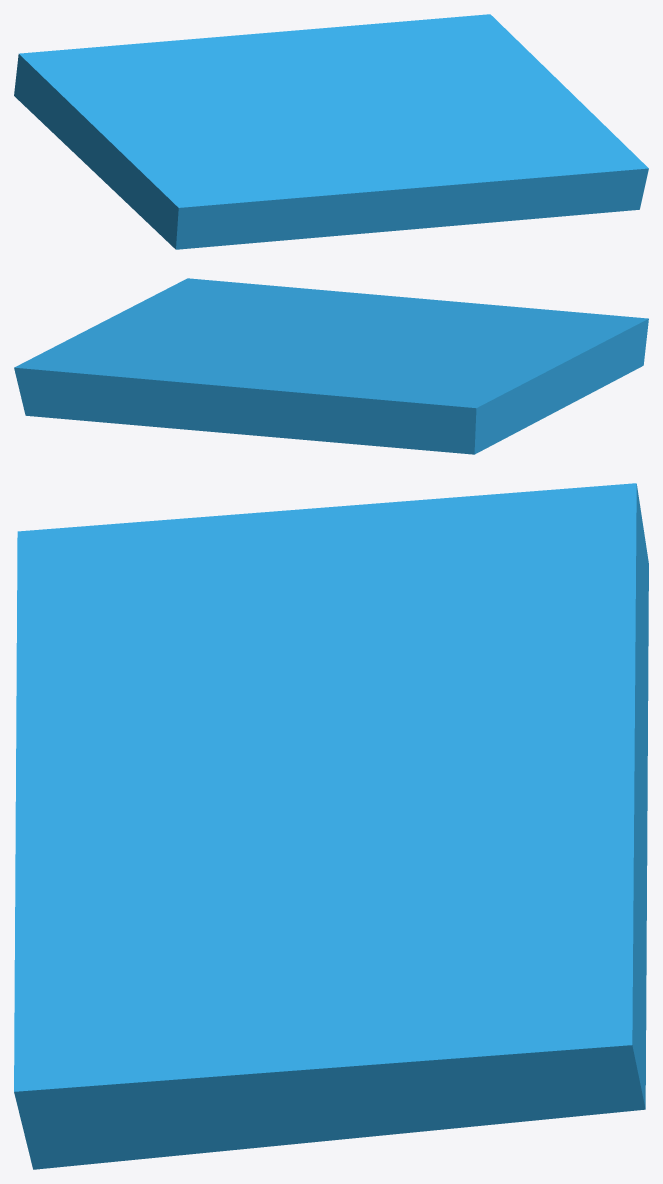
Rendered from unit_confetti_tile.glb.
The picture shows the model from 3 angles, top to bottom: view 1: azimuth 30°, elevation 25°; view 2: azimuth 150°, elevation 25°; view 3: azimuth 270°, elevation 25°; orthographic projection. The views are drawn at different scales.
Visible parts, largest first — view 1: unit_confetti_tile_confetti; view 2: unit_confetti_tile_confetti; view 3: unit_confetti_tile_confetti.
Boxes of the visible parts, x1,y1,x2,y2 form: unit_confetti_tile_confetti: (14, 14, 648, 249); unit_confetti_tile_confetti: (14, 278, 648, 454); unit_confetti_tile_confetti: (14, 483, 648, 1169).
Size of the model in its own units: 0.5583 by 0.1655 by 0.3476.
